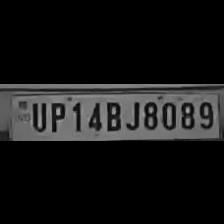0: (160, 96, 176, 130)
1: (67, 97, 83, 132)
4: (84, 98, 102, 132)
8: (140, 97, 158, 131), (178, 96, 196, 130)
9: (196, 96, 214, 130)
B: (102, 97, 122, 131)
J: (124, 97, 140, 131)
P: (46, 97, 66, 132)
U: (28, 98, 46, 132)
